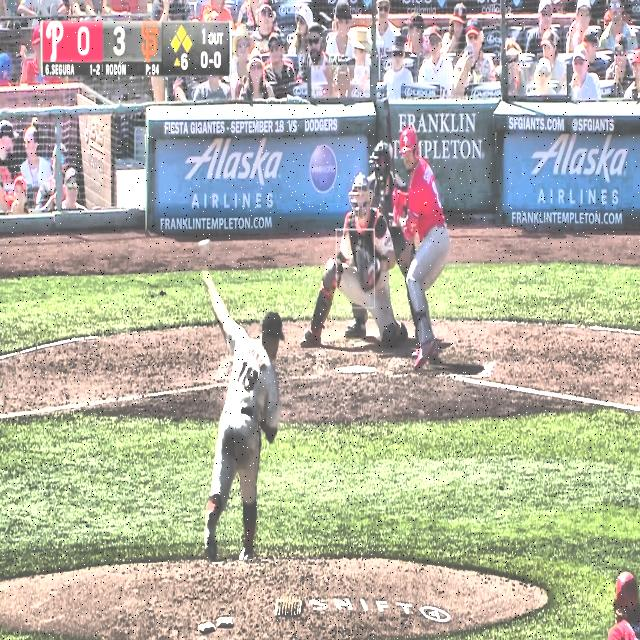baseball: (198, 238, 211, 252)
